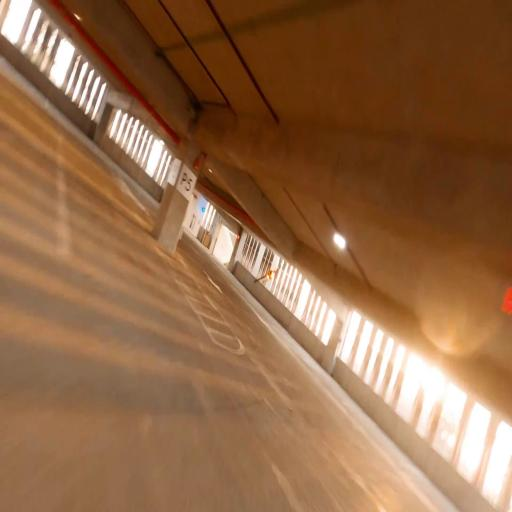uav: (254, 268, 277, 284)
